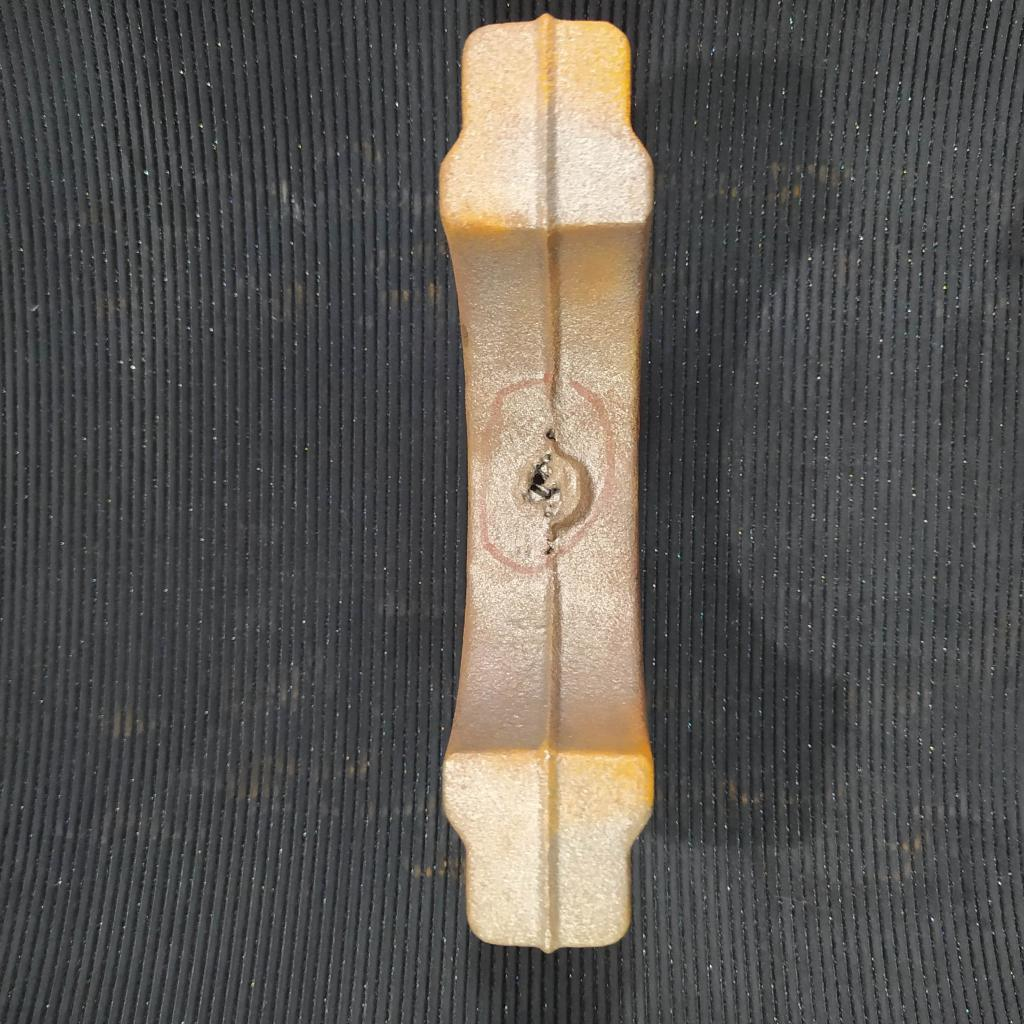buraco: (525, 459, 565, 508), (546, 429, 557, 445), (544, 546, 557, 558)
